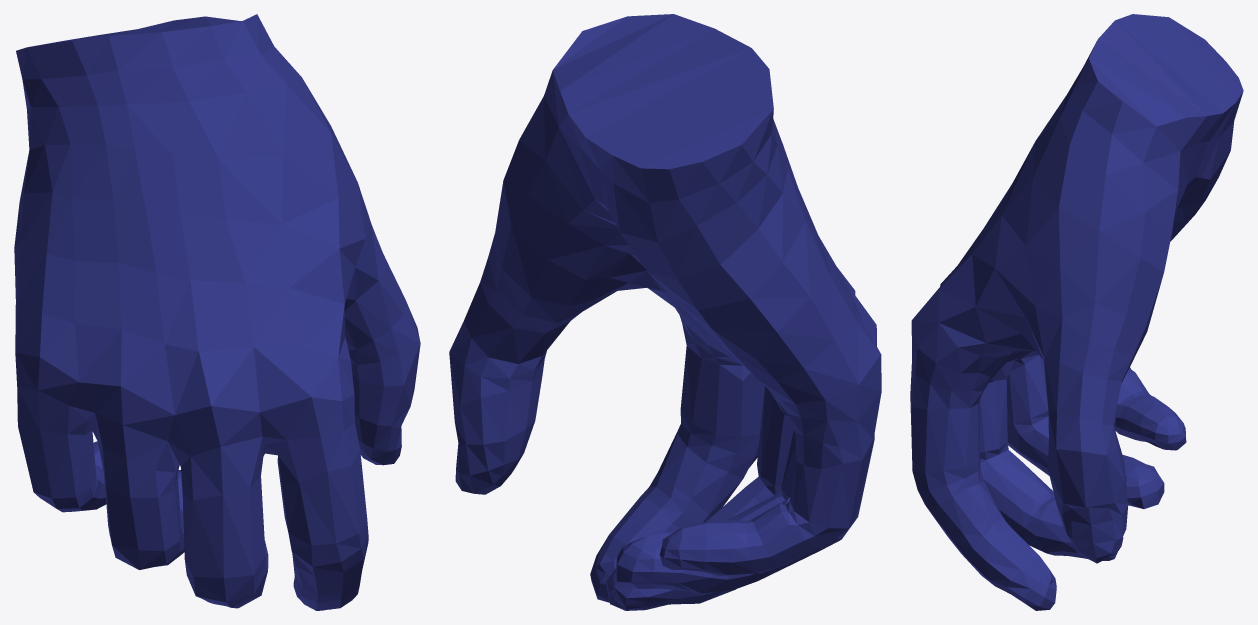
The picture shows the model from 3 angles, left to right: view 1: azimuth 30°, elevation 25°; view 2: azimuth 150°, elevation 25°; view 3: azimuth 270°, elevation 25°; orthographic projection. The views are drawn at different scales.
Size of the model in its own units: 0.1039 by 0.1501 by 0.0882.
